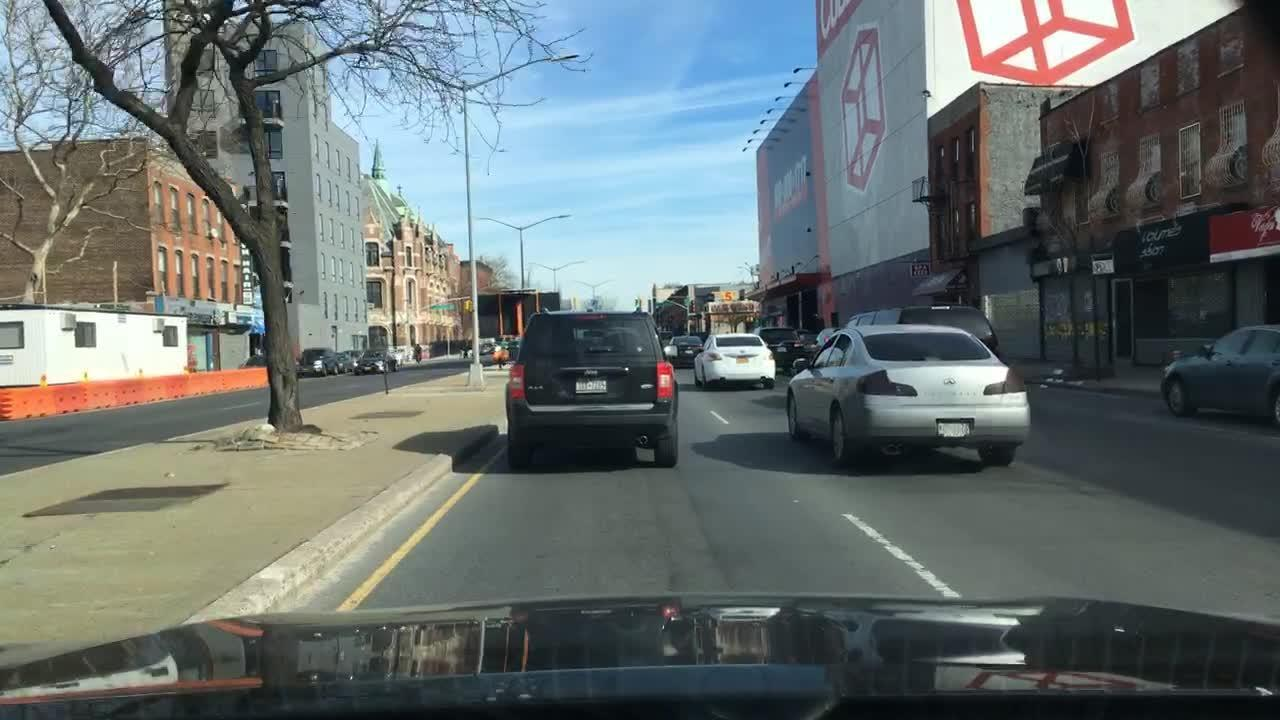Infiniti: (937, 374, 958, 390)
